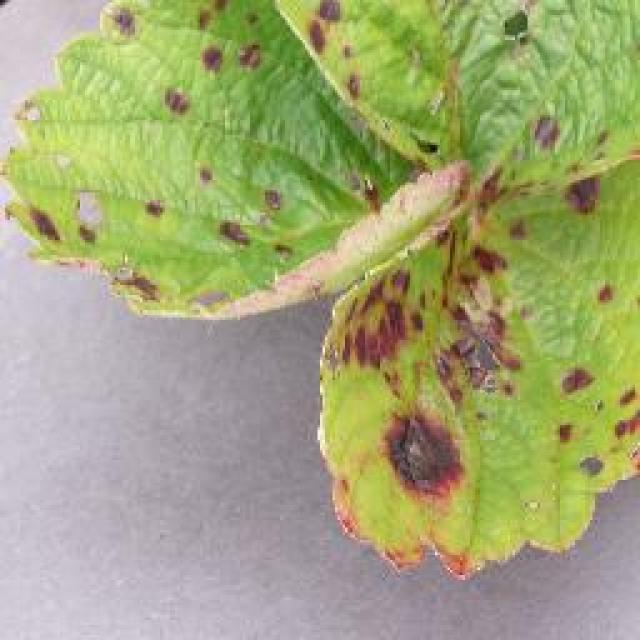Strawberry___Leaf_scorch: (2, 0, 639, 602)
